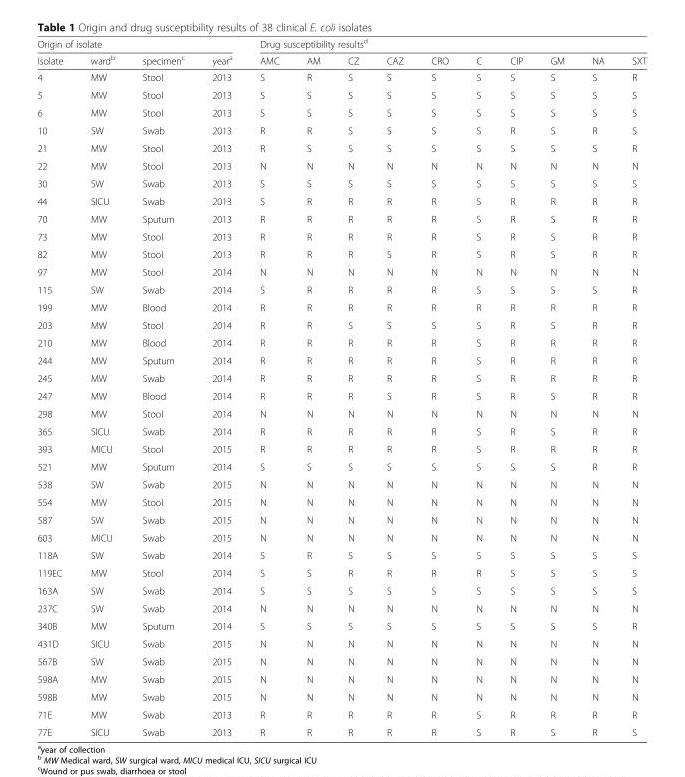table: (36, 36, 646, 737)
table column: (127, 36, 197, 737), (76, 36, 127, 737), (197, 36, 245, 737), (245, 36, 292, 737), (416, 36, 461, 737), (372, 36, 416, 737), (292, 36, 333, 737), (495, 36, 536, 737), (536, 36, 577, 737), (36, 36, 76, 737), (577, 36, 617, 737), (333, 36, 372, 737), (461, 36, 495, 737), (617, 36, 646, 737)
table column header: (36, 36, 646, 68)
table row: (36, 85, 646, 103), (36, 103, 646, 121), (36, 138, 646, 156), (36, 156, 646, 174), (36, 174, 646, 192), (36, 209, 646, 227), (36, 227, 646, 245), (36, 262, 646, 280), (36, 280, 646, 298), (36, 315, 646, 333), (36, 333, 646, 351), (36, 351, 646, 369), (36, 386, 646, 404), (36, 404, 646, 422), (36, 439, 646, 457), (36, 457, 646, 475), (36, 475, 646, 493), (36, 510, 646, 528), (36, 528, 646, 546), (36, 563, 646, 581), (36, 581, 646, 599), (36, 616, 646, 634), (36, 634, 646, 652), (36, 652, 646, 670), (36, 687, 646, 705), (36, 705, 646, 723), (36, 51, 646, 68), (36, 68, 646, 85), (36, 121, 646, 138), (36, 192, 646, 209), (36, 245, 646, 262), (36, 298, 646, 315), (36, 369, 646, 386), (36, 422, 646, 439), (36, 493, 646, 510), (36, 546, 646, 563), (36, 599, 646, 616), (36, 670, 646, 687), (36, 36, 646, 51), (36, 723, 646, 737)
table spanning cell: (245, 36, 646, 51), (36, 36, 245, 51)
